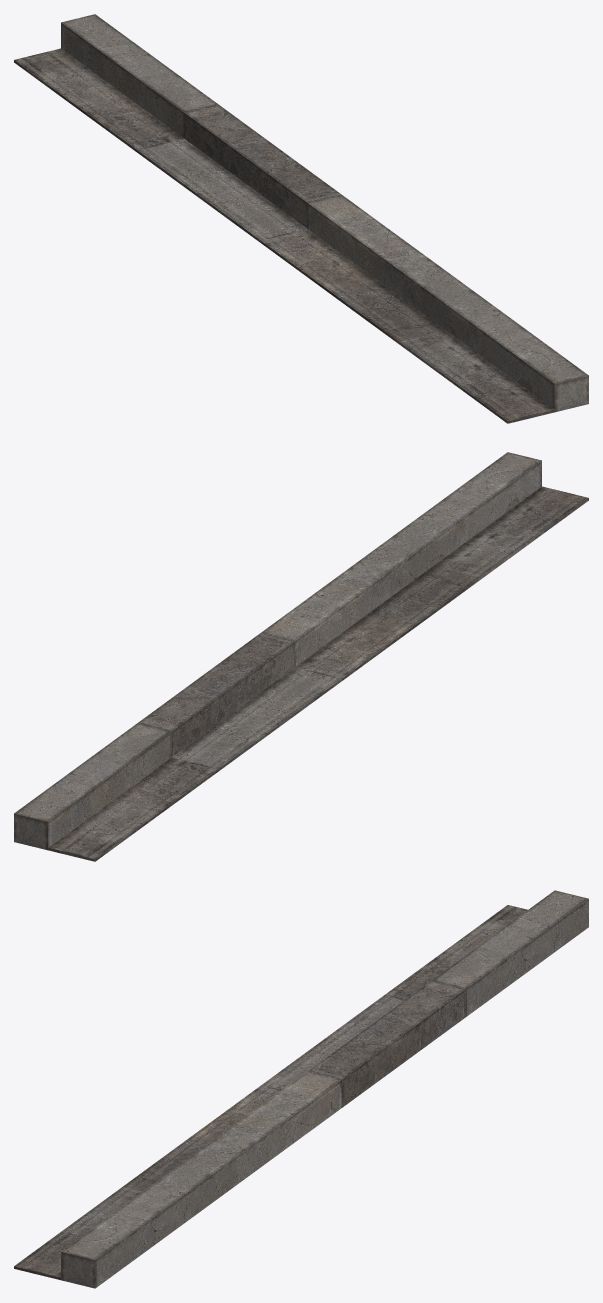
The model's file is CP_Curbstone_4m_02.fbx.
3 renders of one model, top to bottom at view 1: azimuth 30°, elevation 25°; view 2: azimuth 150°, elevation 25°; view 3: azimuth 330°, elevation 25°, orthographic.
Parts seen in each view (by area): view 1: CP_Curbstone_4m_02; view 2: CP_Curbstone_4m_02; view 3: CP_Curbstone_4m_02.
Boxes of the visible parts, left/top/right/bottom form: CP_Curbstone_4m_02: left=14, top=14, right=588, bottom=423; CP_Curbstone_4m_02: left=14, top=452, right=588, bottom=861; CP_Curbstone_4m_02: left=14, top=890, right=588, bottom=1288.
Bounding box in the file's own units: 38 × 12.77 × 400.
